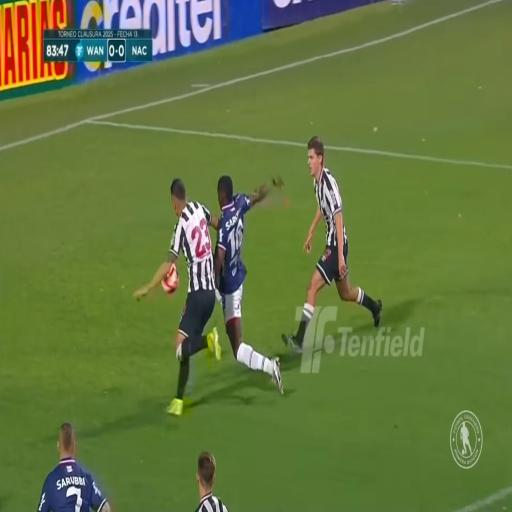Ball: (162, 257, 180, 293)
Player: (293, 138, 355, 362), (172, 164, 215, 416), (217, 169, 260, 389), (42, 409, 97, 512)
